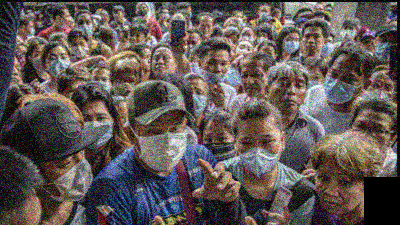mask_weared_incorrect: (201, 59, 229, 87), (125, 32, 143, 49), (360, 39, 374, 56), (59, 13, 71, 32)
with_mask: (45, 149, 94, 205), (135, 121, 188, 172), (236, 134, 281, 177), (322, 67, 358, 105), (81, 113, 113, 152), (202, 132, 236, 165), (362, 79, 395, 101), (45, 53, 69, 79), (373, 36, 396, 63), (112, 76, 137, 99), (189, 86, 206, 119), (224, 63, 240, 86), (68, 41, 87, 60), (75, 18, 93, 38), (183, 39, 200, 60), (90, 75, 111, 92), (282, 36, 300, 55), (186, 56, 203, 75), (31, 50, 45, 73), (305, 71, 321, 90), (339, 25, 356, 42), (320, 39, 334, 58), (237, 31, 254, 44), (237, 44, 252, 58), (255, 33, 270, 46), (118, 112, 129, 129), (116, 35, 127, 51), (226, 23, 238, 34), (136, 6, 147, 18), (313, 7, 324, 18), (258, 9, 268, 21), (27, 25, 35, 38), (294, 24, 303, 35), (234, 15, 243, 26), (161, 11, 169, 21), (187, 8, 192, 20), (277, 12, 282, 21)
without_mask: (313, 168, 360, 216), (268, 76, 305, 115), (350, 119, 391, 151), (240, 69, 266, 99), (151, 53, 176, 79), (301, 33, 323, 55), (197, 22, 212, 39), (9, 63, 19, 86), (141, 53, 151, 74), (113, 11, 121, 21)
